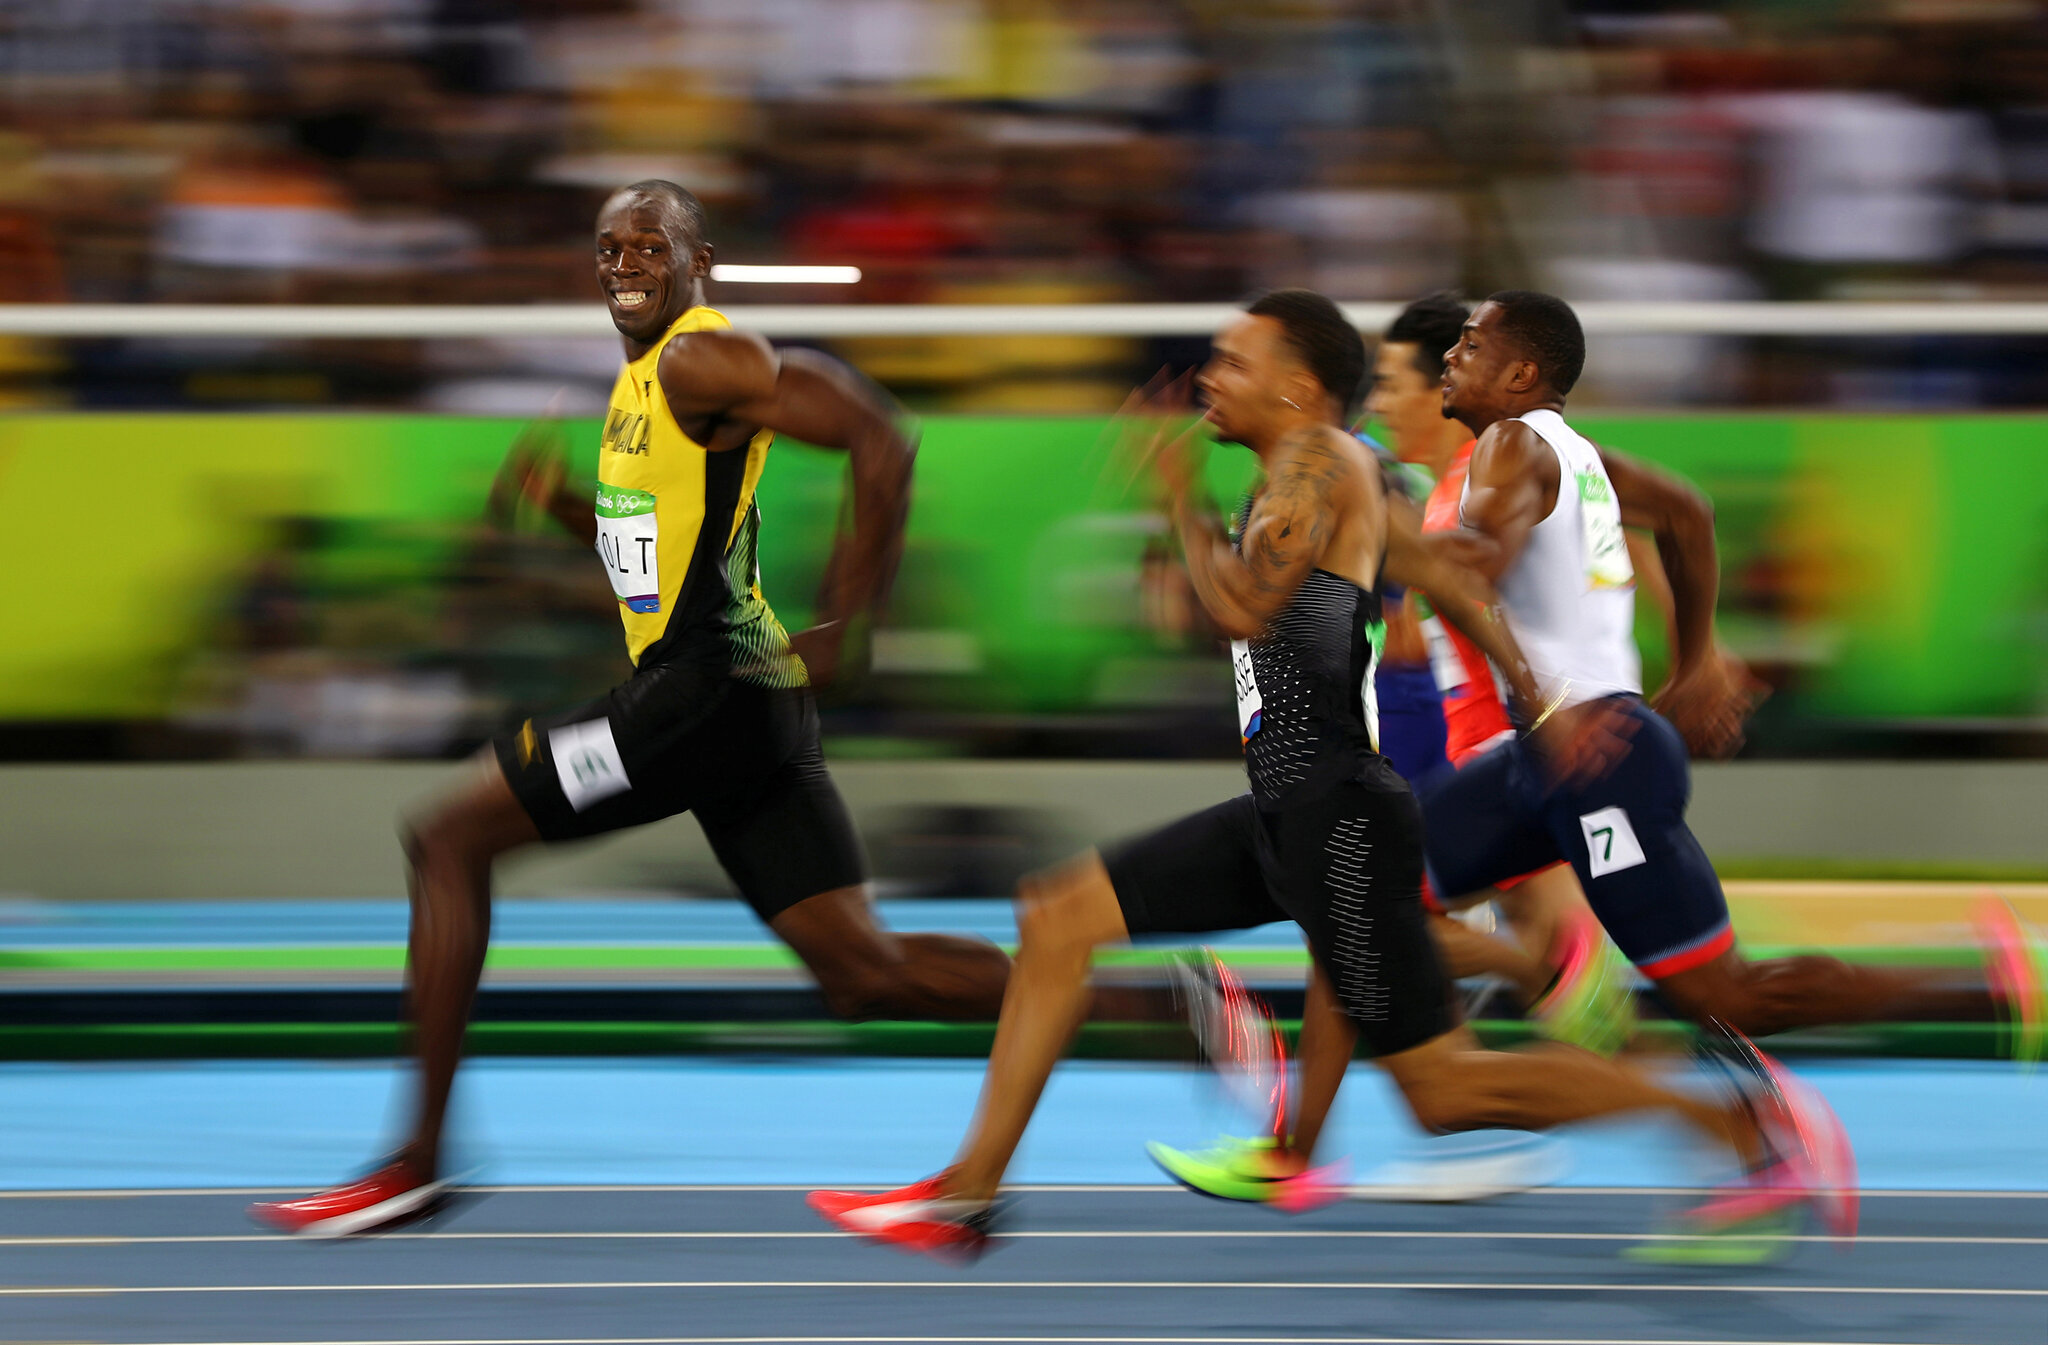runner: (233, 176, 1287, 1282), (804, 288, 1857, 1282), (1410, 290, 2048, 1046)
